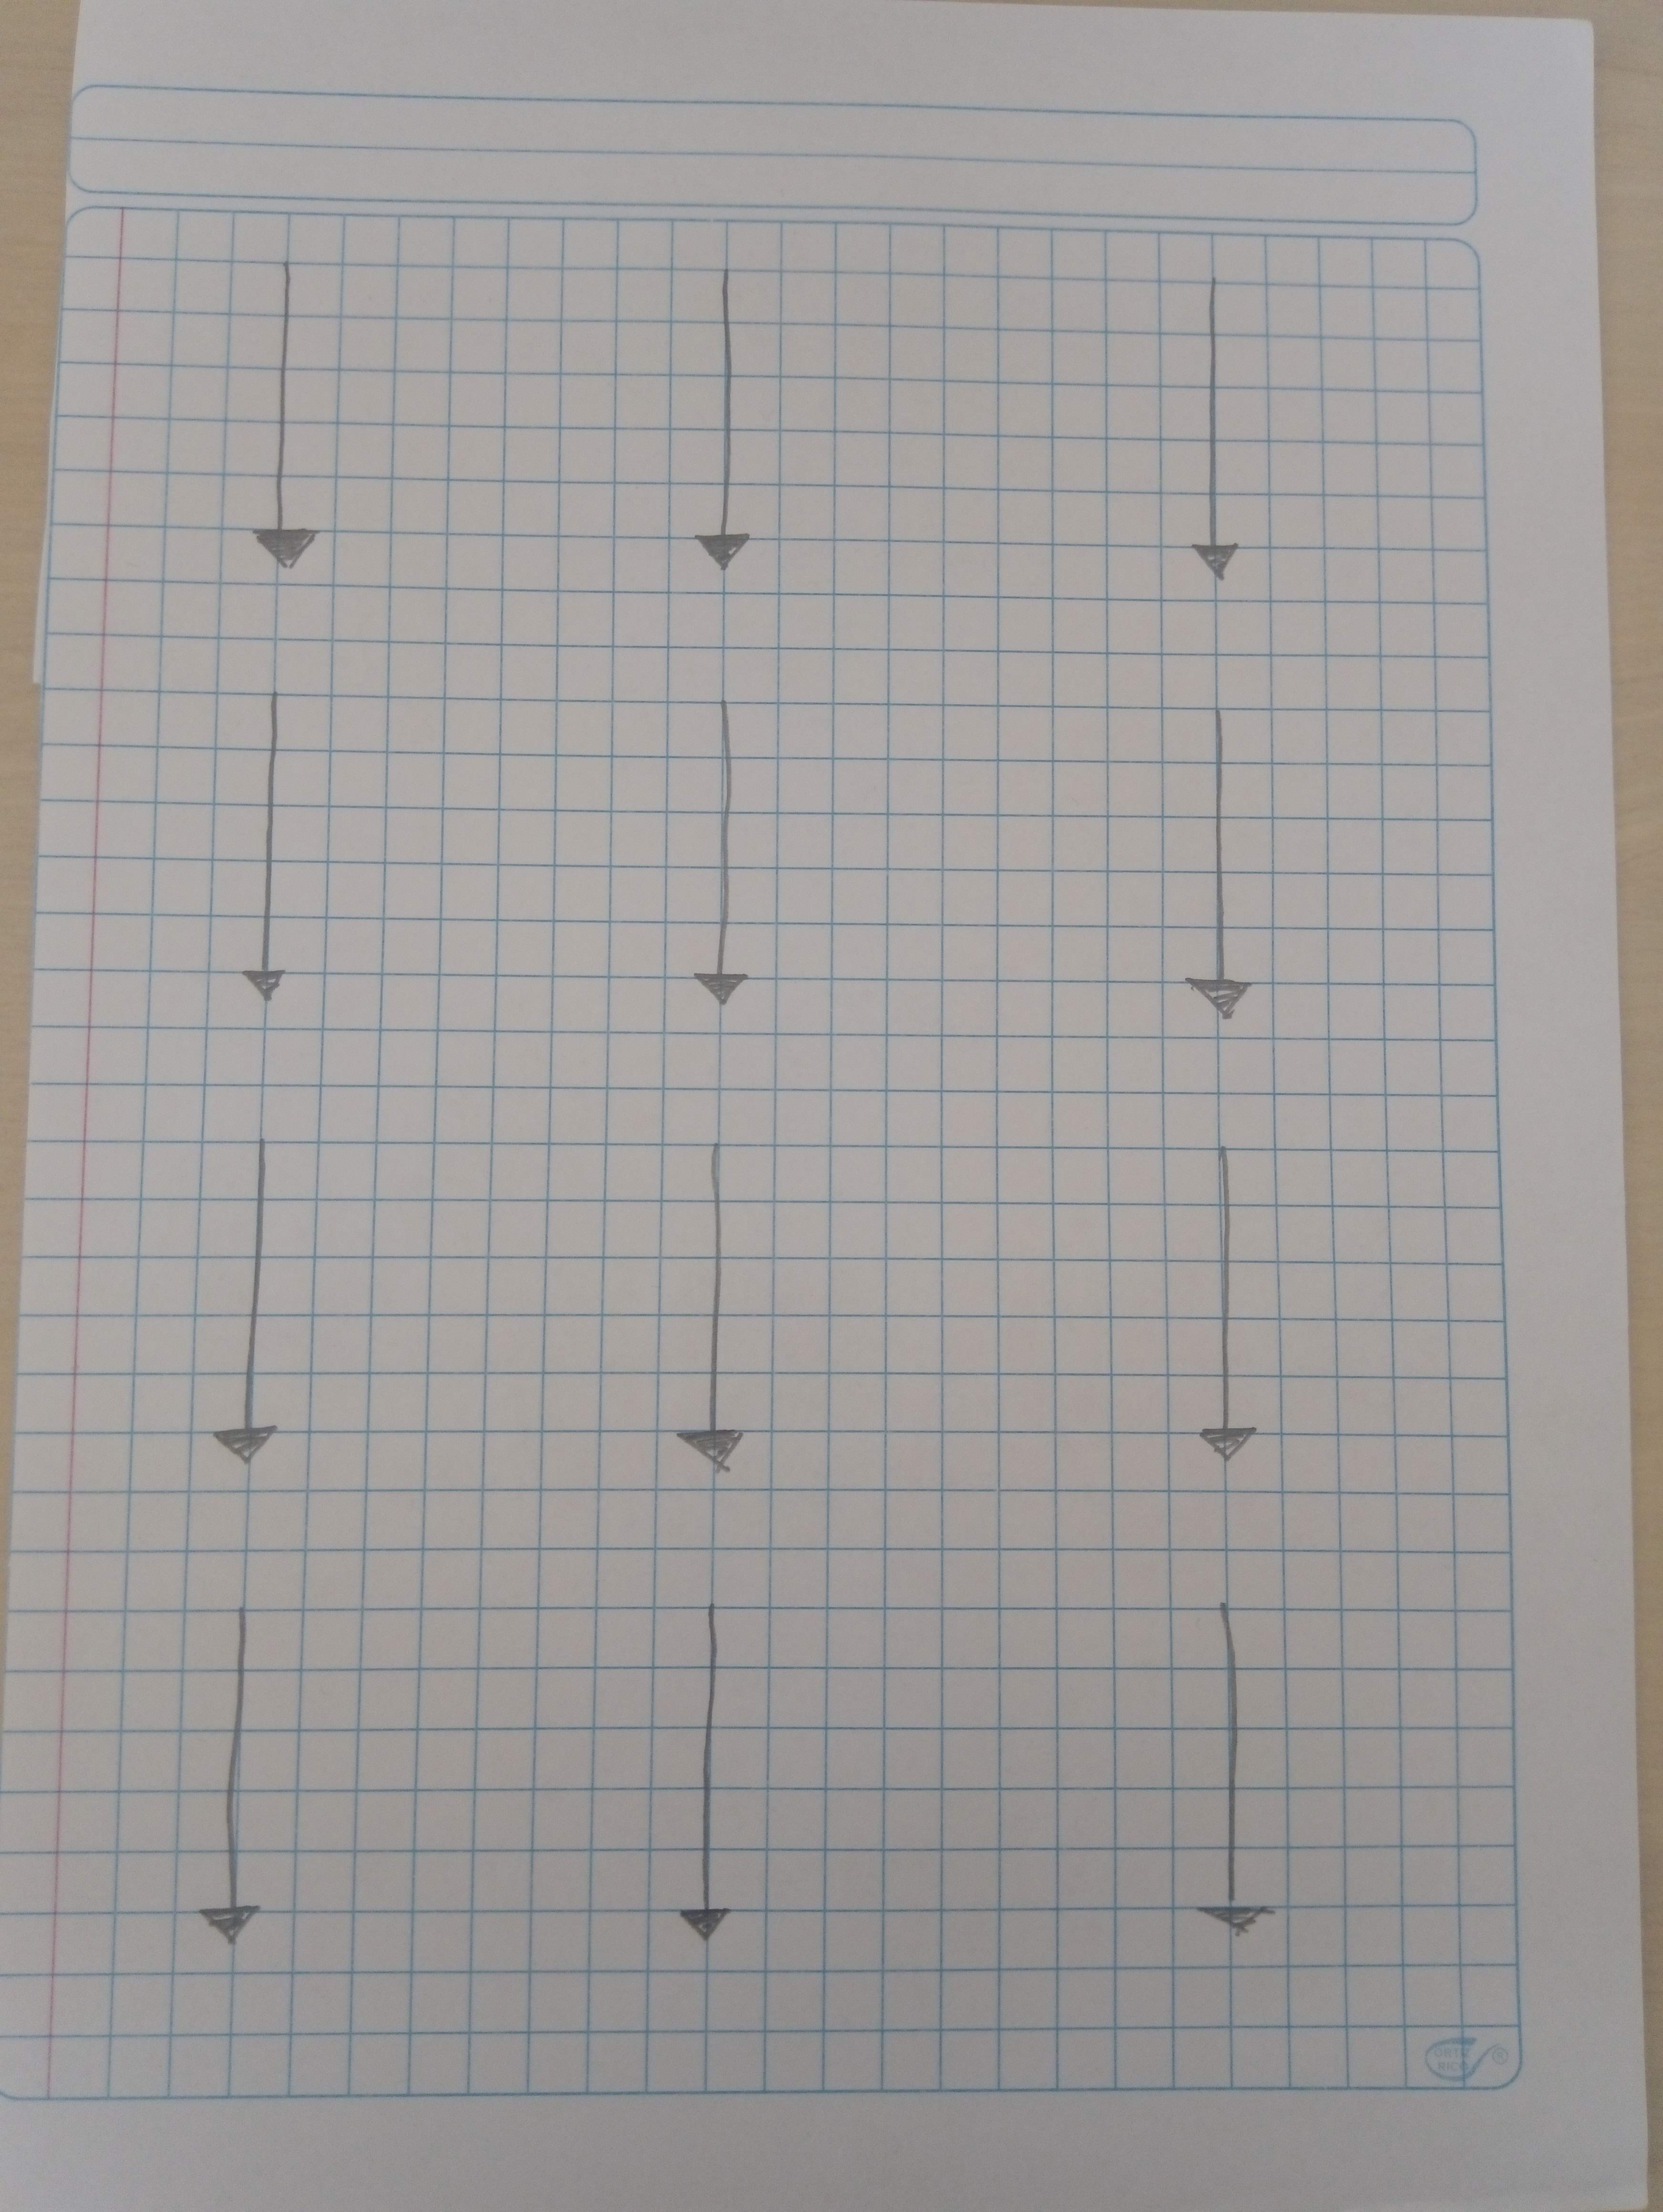arrow_line_down: (234, 262, 358, 595), (662, 1124, 772, 1491), (1172, 1604, 1286, 1934), (1176, 1142, 1272, 1487), (222, 695, 321, 1028), (655, 1594, 751, 1938), (674, 688, 772, 1021), (194, 1601, 278, 1950), (211, 1128, 288, 1480), (685, 281, 772, 574), (1172, 292, 1249, 601), (1183, 711, 1252, 1025)
